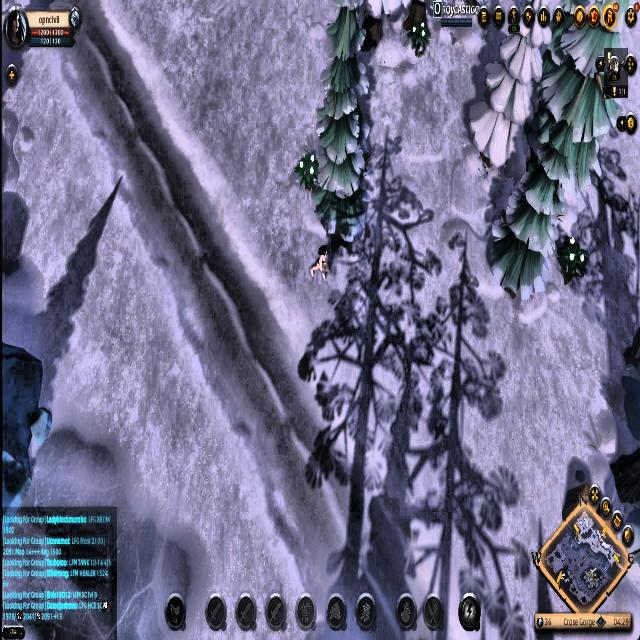flax: (554, 234, 590, 294), (294, 147, 321, 195), (406, 19, 432, 58)
